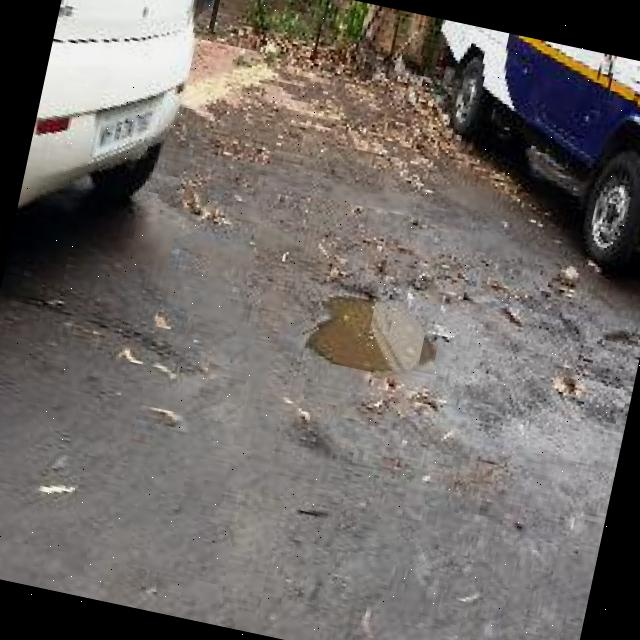waterlogging: (307, 276, 442, 385)
